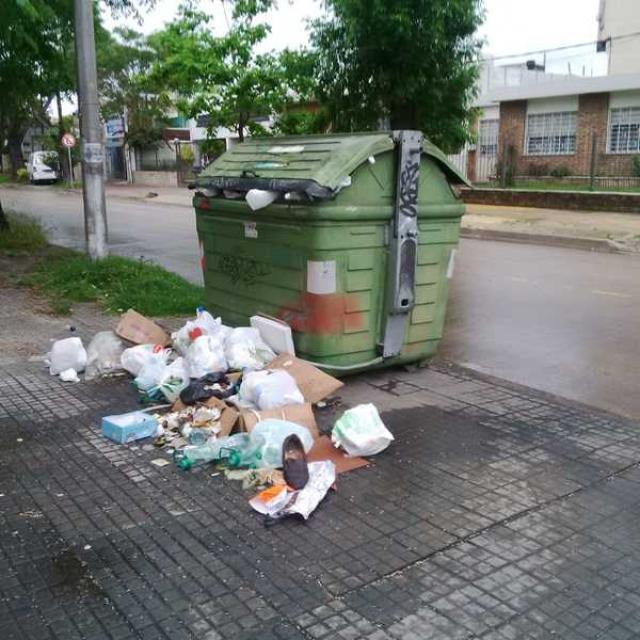garbage: (134, 308, 408, 536), (43, 318, 163, 405), (189, 182, 306, 214), (110, 300, 176, 353), (95, 406, 158, 450)
